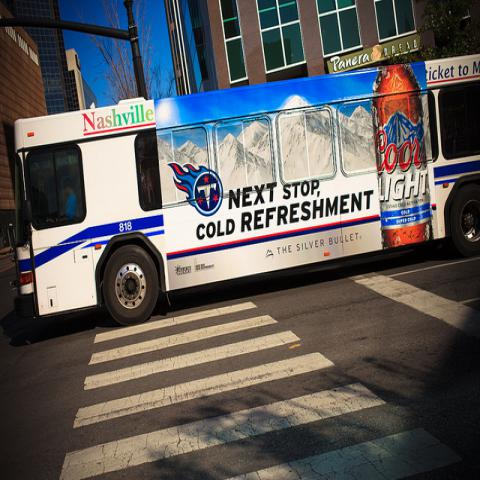bus: (15, 54, 478, 325)
